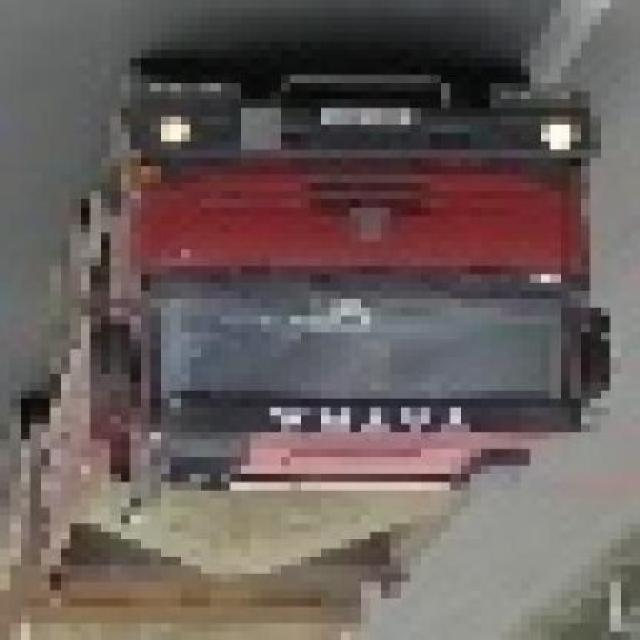truck: (1, 35, 610, 640)
